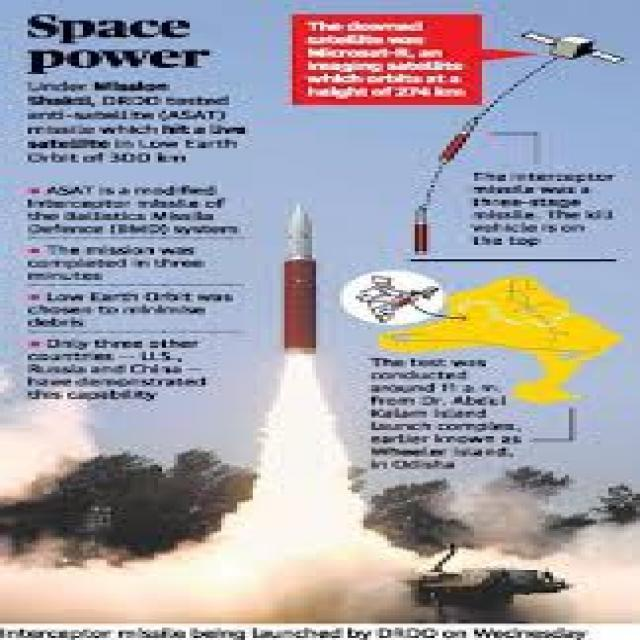Missile: (274, 204, 330, 369)
